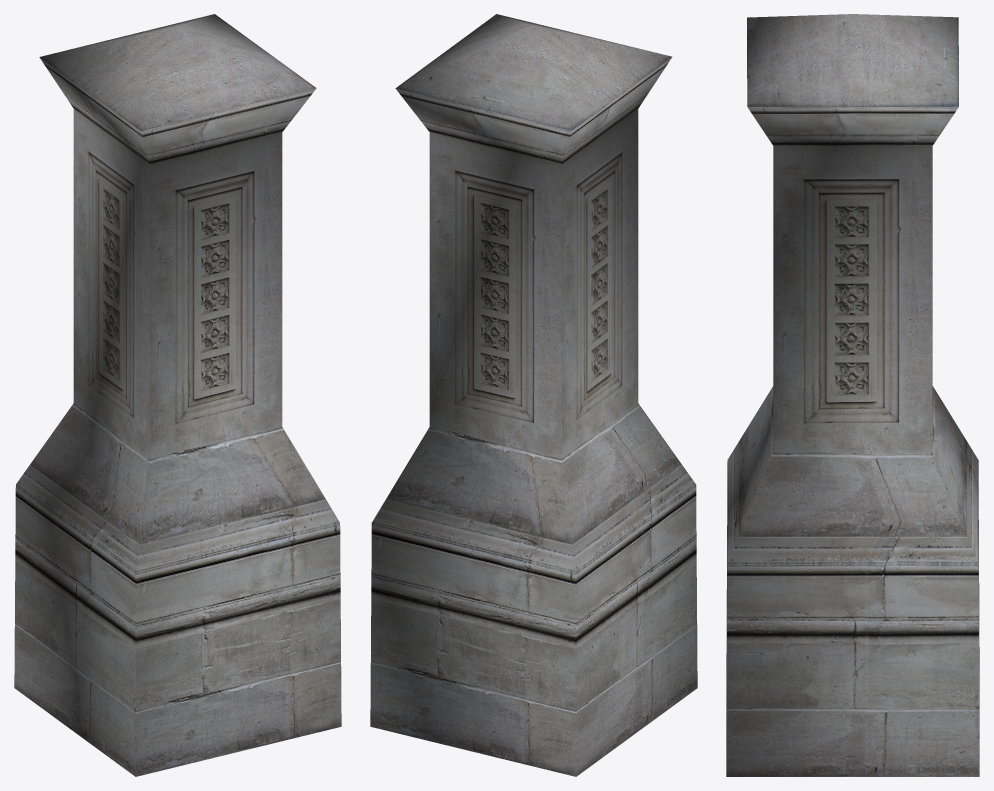
Rendered from StoneFence_Post_LOD2.fbx.
3 views of the same model, side by side, from view 1: azimuth 30°, elevation 25°; view 2: azimuth 150°, elevation 25°; view 3: azimuth 270°, elevation 25° (orthographic). The views are drawn at different scales.
Parts seen in each view (by area): view 1: StoneFence_Post_LOD2; view 2: StoneFence_Post_LOD2; view 3: StoneFence_Post_LOD2.
Boxes of the visible parts, bbox=[...] form: StoneFence_Post_LOD2: bbox=[14, 14, 341, 776]; StoneFence_Post_LOD2: bbox=[370, 14, 697, 776]; StoneFence_Post_LOD2: bbox=[726, 14, 979, 776].
Size of the model in its own units: 74.8 by 236 by 76.37.
